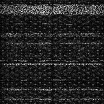lte: (1, 4, 104, 14), (1, 62, 104, 66), (1, 96, 104, 100), (1, 87, 104, 91), (1, 33, 104, 37)
